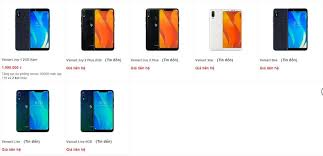vsmart: (25, 5, 55, 51), (91, 4, 118, 51), (158, 5, 183, 52), (229, 7, 254, 52), (262, 20, 287, 65), (93, 88, 118, 133), (27, 88, 52, 133)
